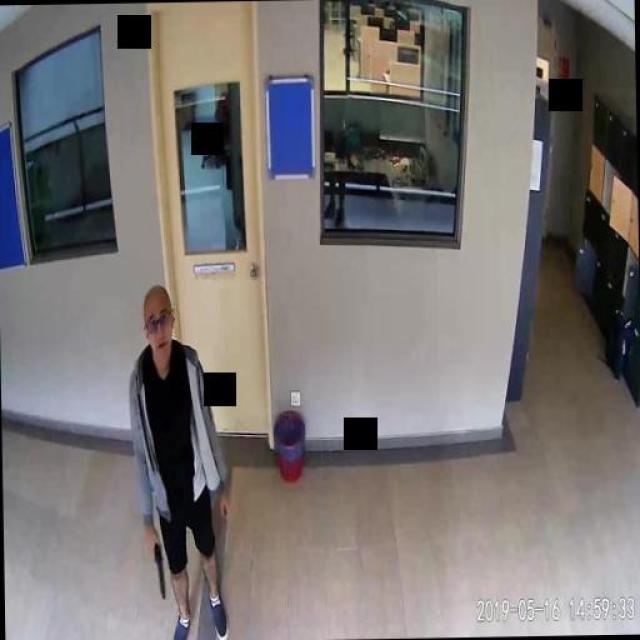gun: (149, 538, 165, 598)
